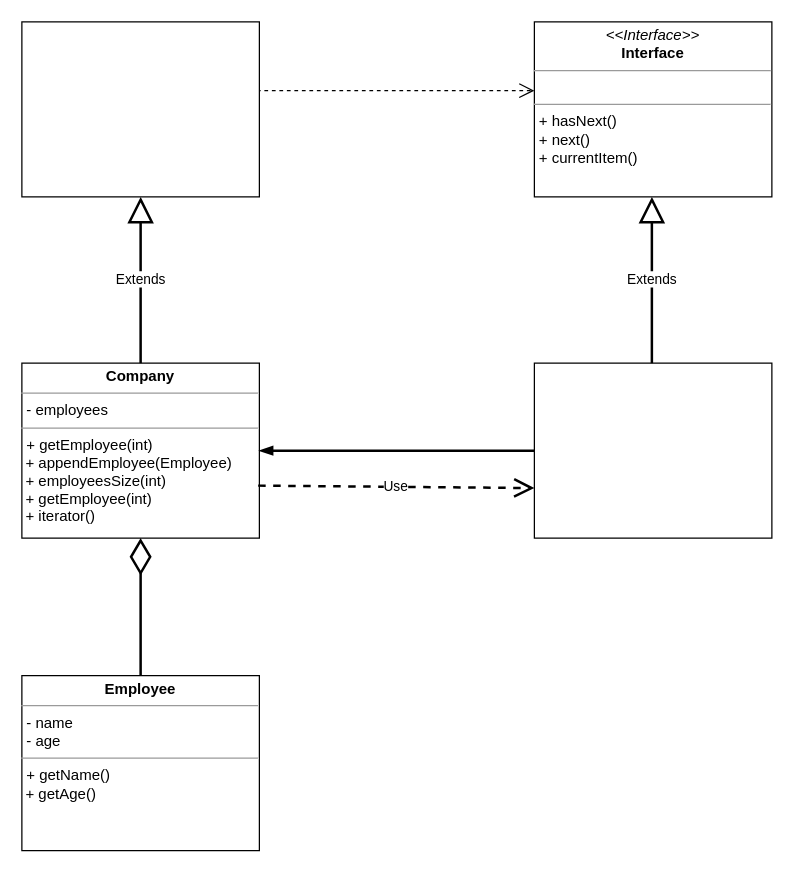
This 794x873 diagram has some shape labels left out. The shapes that lost their labels are listed below. From the top down, each one's box as (x1, y1, x2, y2) in pixels, then its label:
(21, 21, 259, 197): <<Interface>> Aggregate + iterator()
(533, 362, 772, 538): ListIterator - list - size - currentIndex + hasNext() + next() + currentItem()
